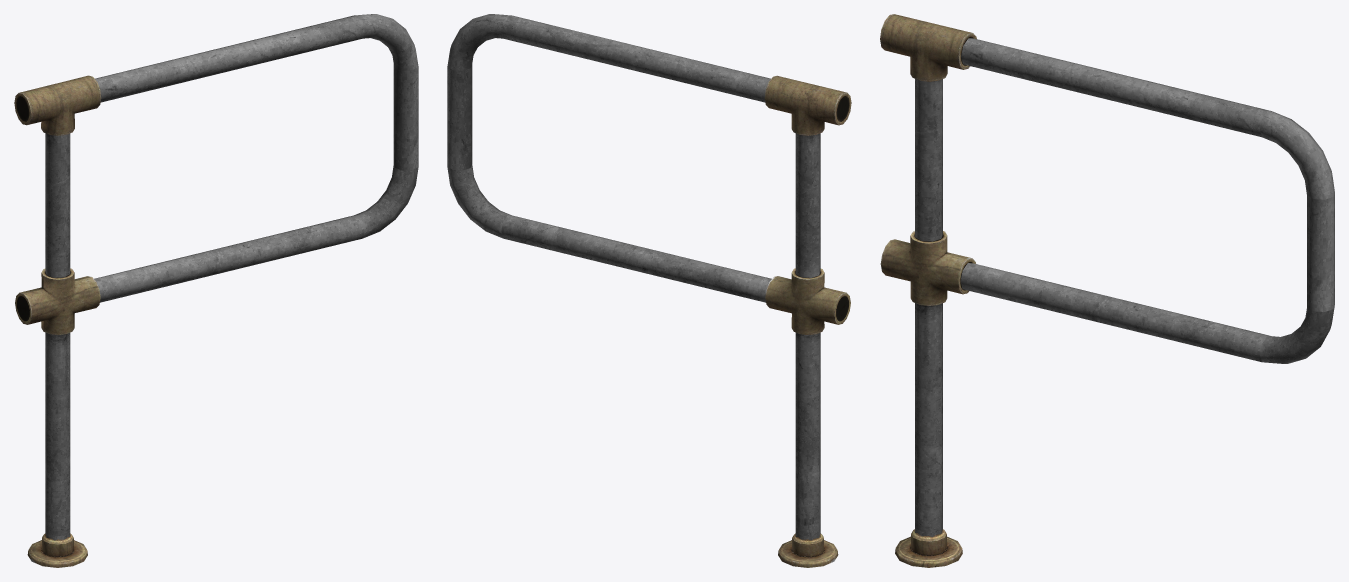
The model's file is railing_pplant_end_short.dae.
The picture shows the model from 3 angles, left to right: view 1: azimuth 30°, elevation 25°; view 2: azimuth 150°, elevation 25°; view 3: azimuth 330°, elevation 25°; orthographic projection. The views are drawn at different scales.
Parts seen in each view (by area): view 1: railing_pplant_end_short_chainlink__2_; view 2: railing_pplant_end_short_chainlink__2_; view 3: railing_pplant_end_short_chainlink__2_.
Part boxes in pixels (x1,y1,x2,y2): railing_pplant_end_short_chainlink__2_: (14,14,418,567); railing_pplant_end_short_chainlink__2_: (447,14,851,567); railing_pplant_end_short_chainlink__2_: (880,14,1334,567).
Size of the model in its own units: 1.31 by 1.49 by 0.1737.
